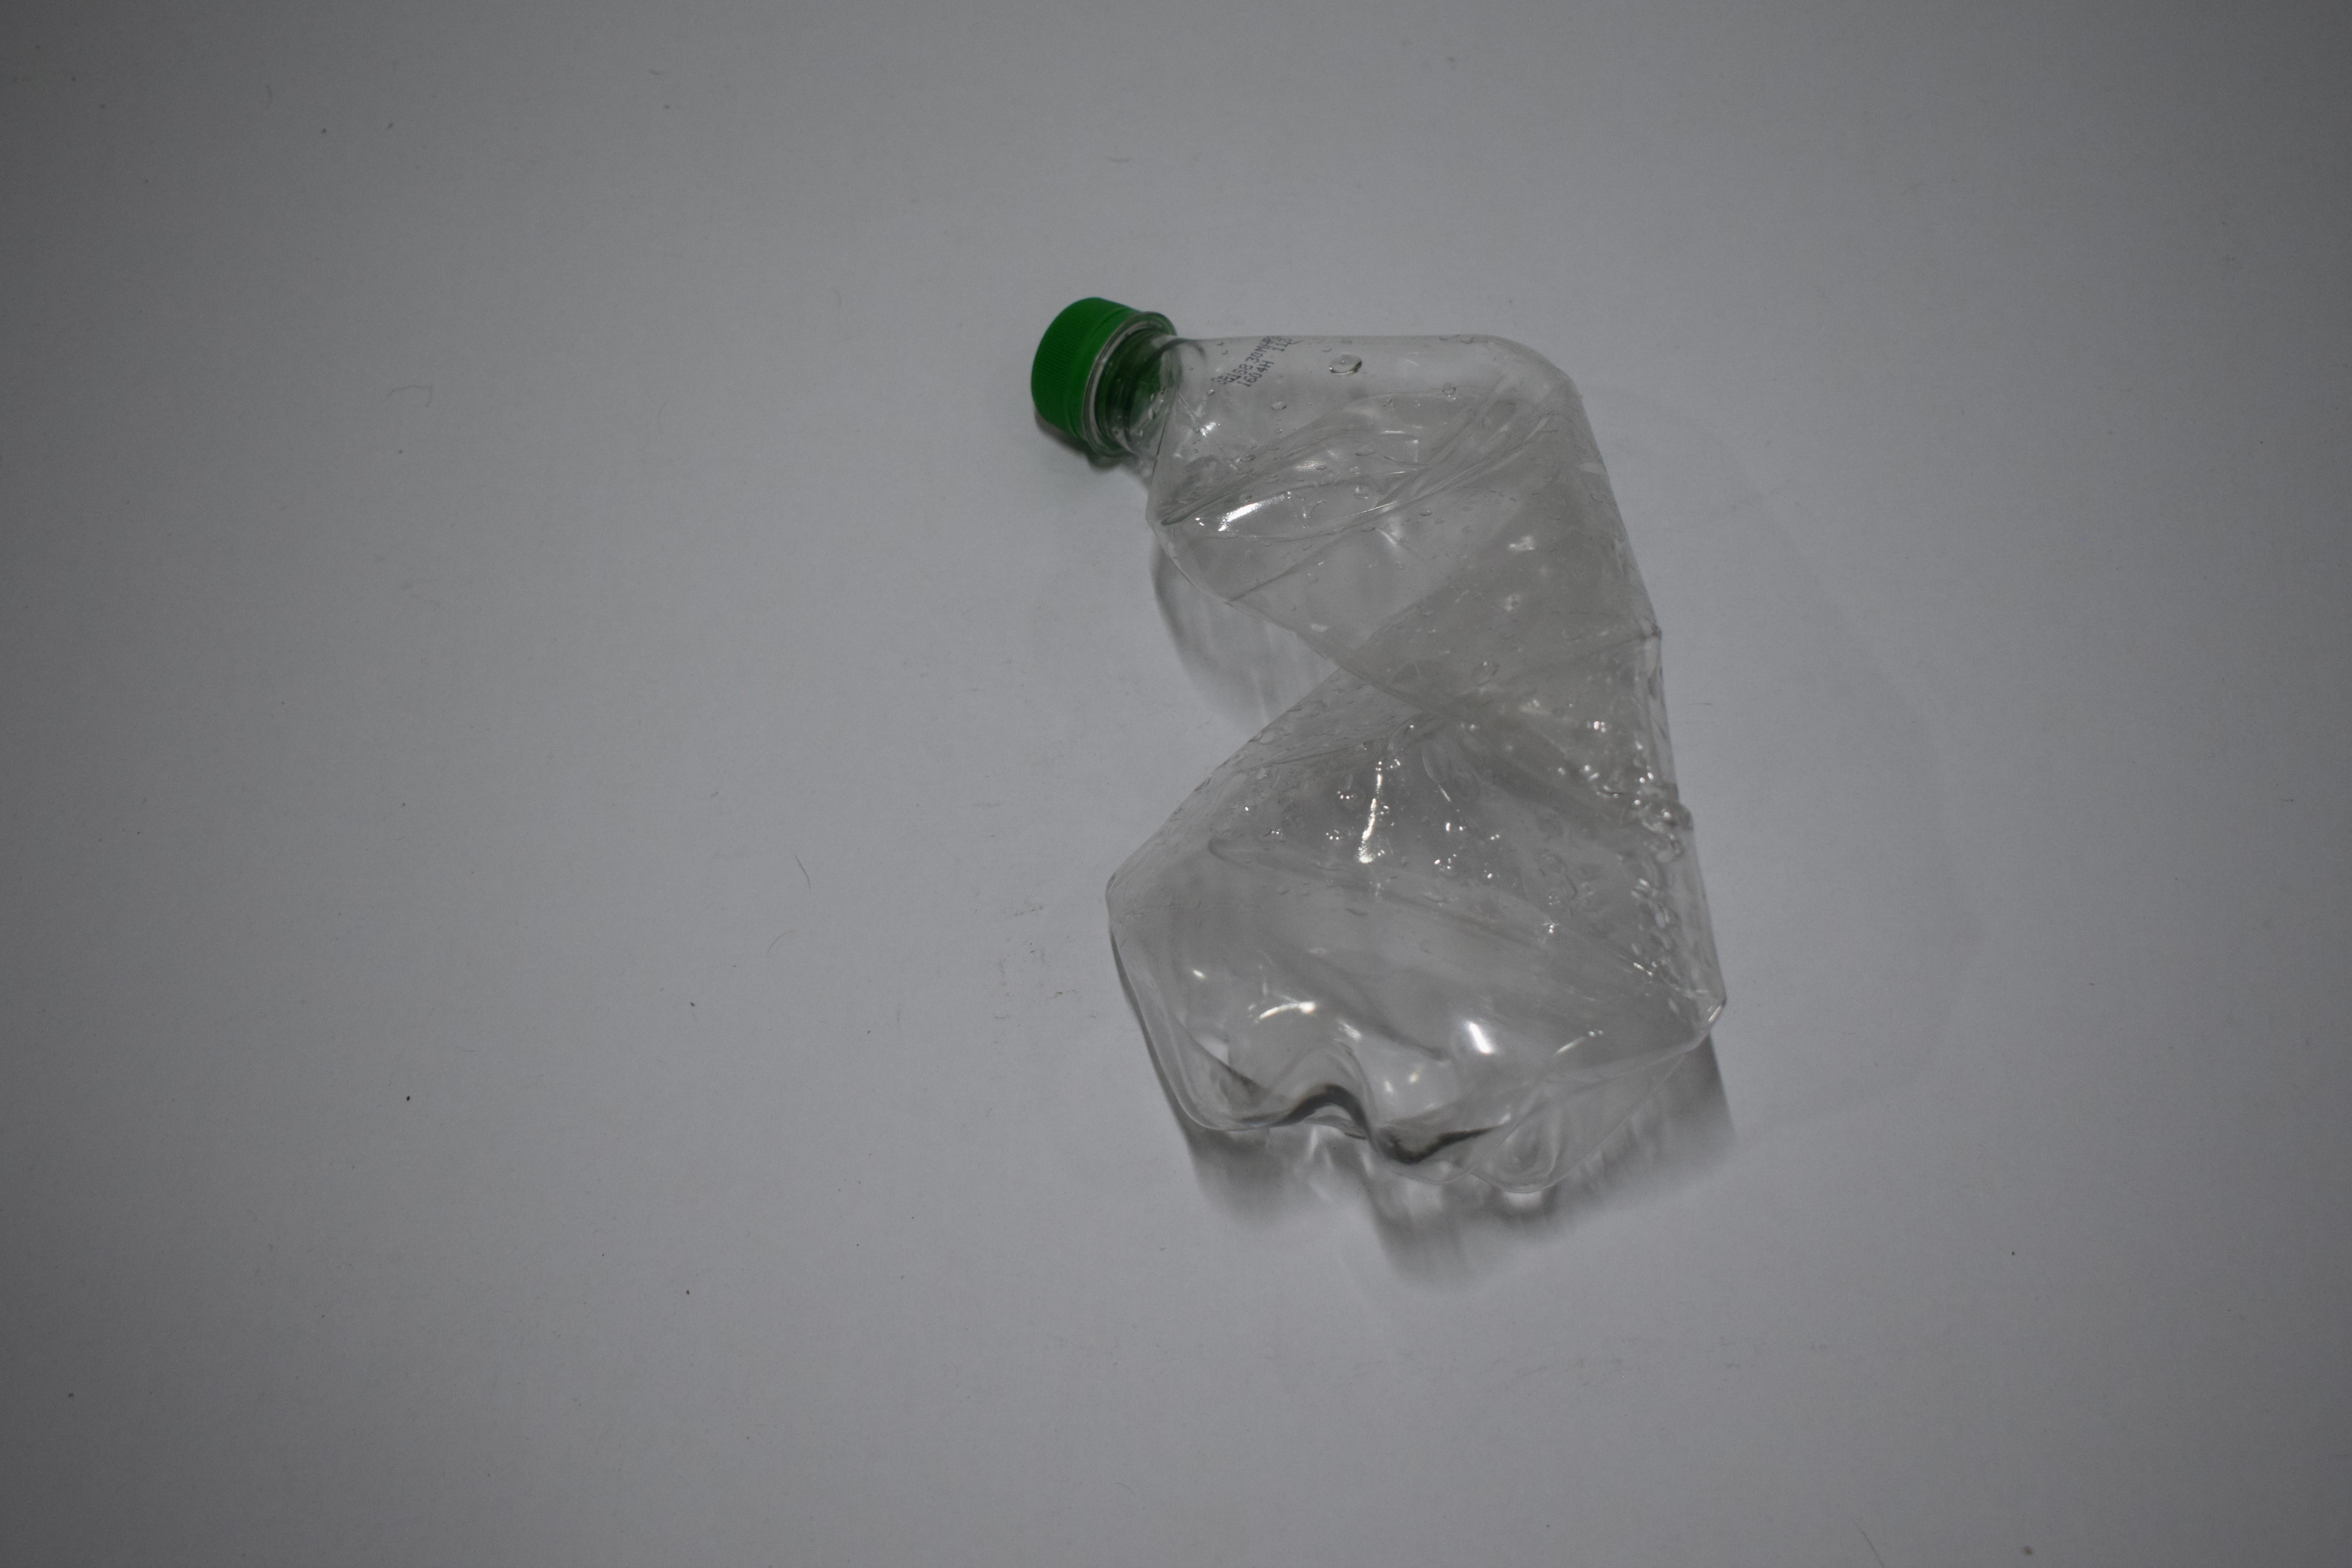bottle: (0, 677, 560, 788)
